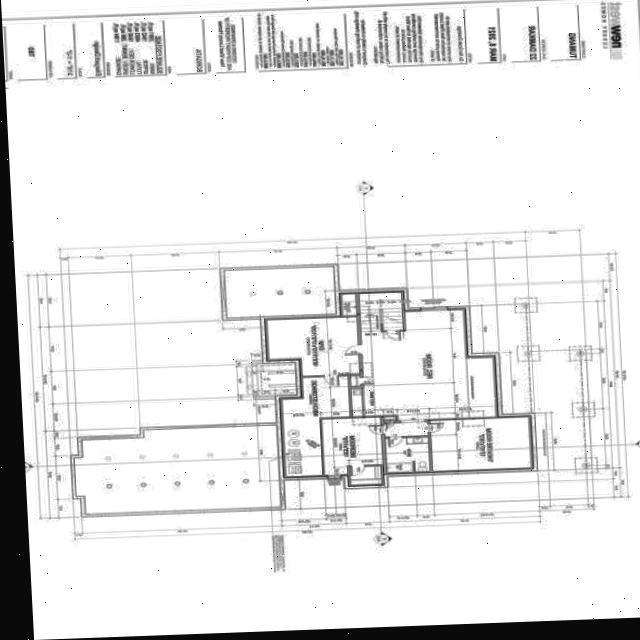room: (280, 375, 352, 477), (266, 317, 359, 378), (430, 417, 530, 471), (321, 416, 383, 475), (384, 437, 429, 473), (383, 422, 427, 437), (349, 466, 381, 485), (349, 376, 360, 387), (383, 417, 395, 422)
